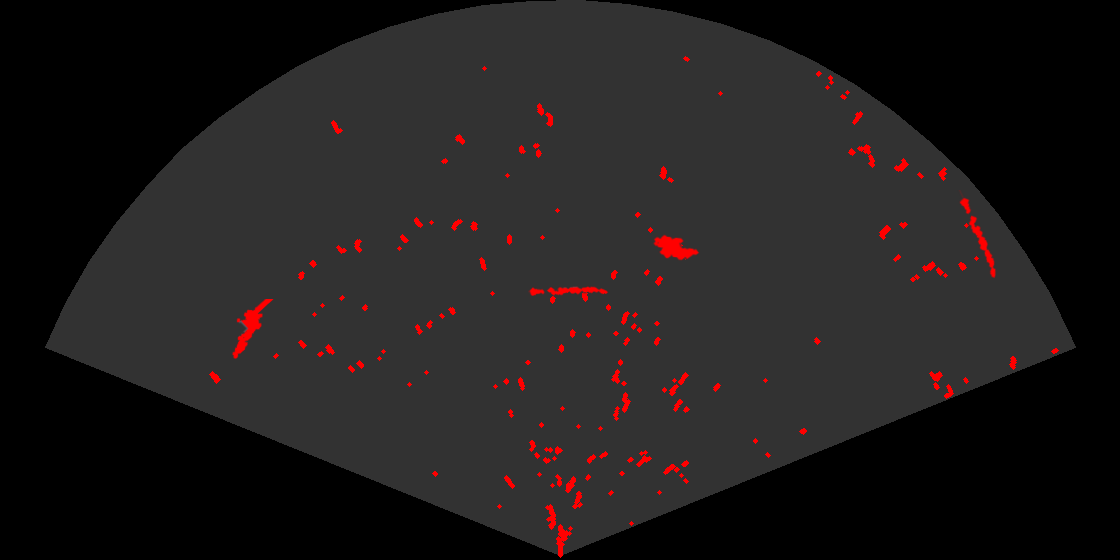AUV: (652, 233, 701, 262)
chain: (957, 190, 998, 280), (528, 285, 609, 297)
frogman: (231, 299, 275, 361)
